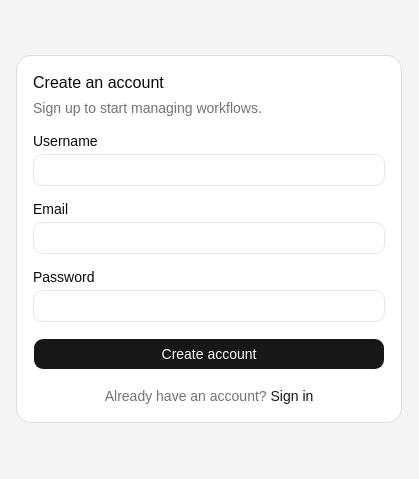
Test: RegisterPage › shows validation errors when submitting empty form
Click the button "Create account" at (209, 354), box 33,338 -> 385,370
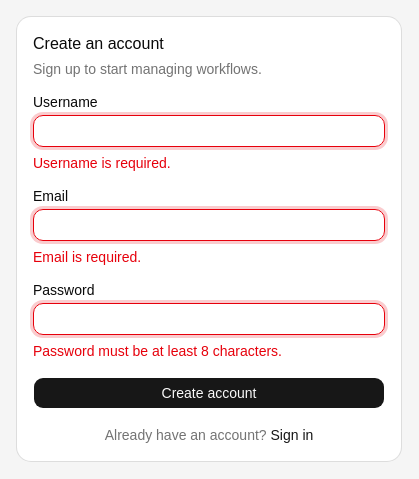
Check: the text "Username is required." is shown, box 33,155 -> 171,171
